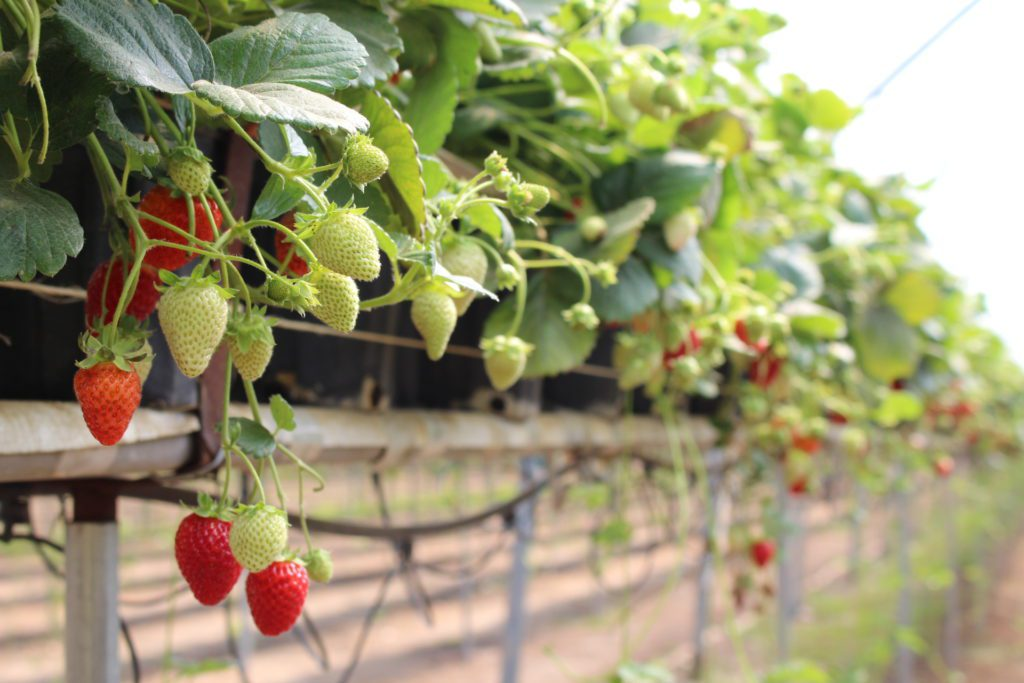green_strawberry: (157, 275, 220, 375), (309, 210, 383, 282), (227, 499, 292, 574), (303, 270, 368, 340), (479, 333, 540, 394), (414, 283, 459, 358), (226, 316, 273, 384), (339, 139, 395, 190), (166, 147, 214, 197), (440, 244, 489, 290), (507, 177, 551, 221)
red_strawberry: (137, 189, 223, 273), (81, 350, 156, 446), (171, 512, 238, 607), (243, 557, 316, 638), (87, 263, 162, 330)
